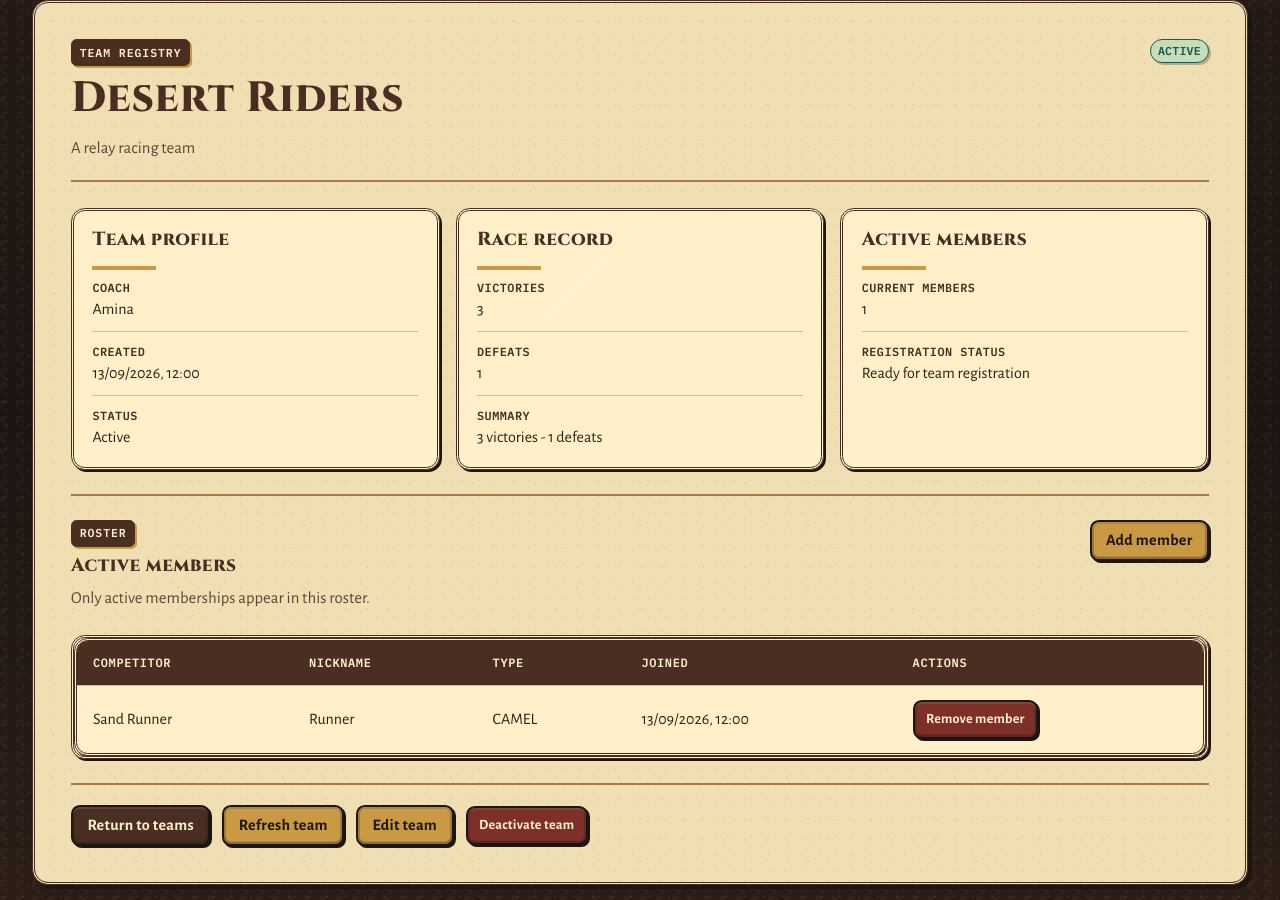
Test case: TeamDetailPage › opens confirmation before removing a member
Click the button "Remove member": point(975, 720) [913,700,1038,739]
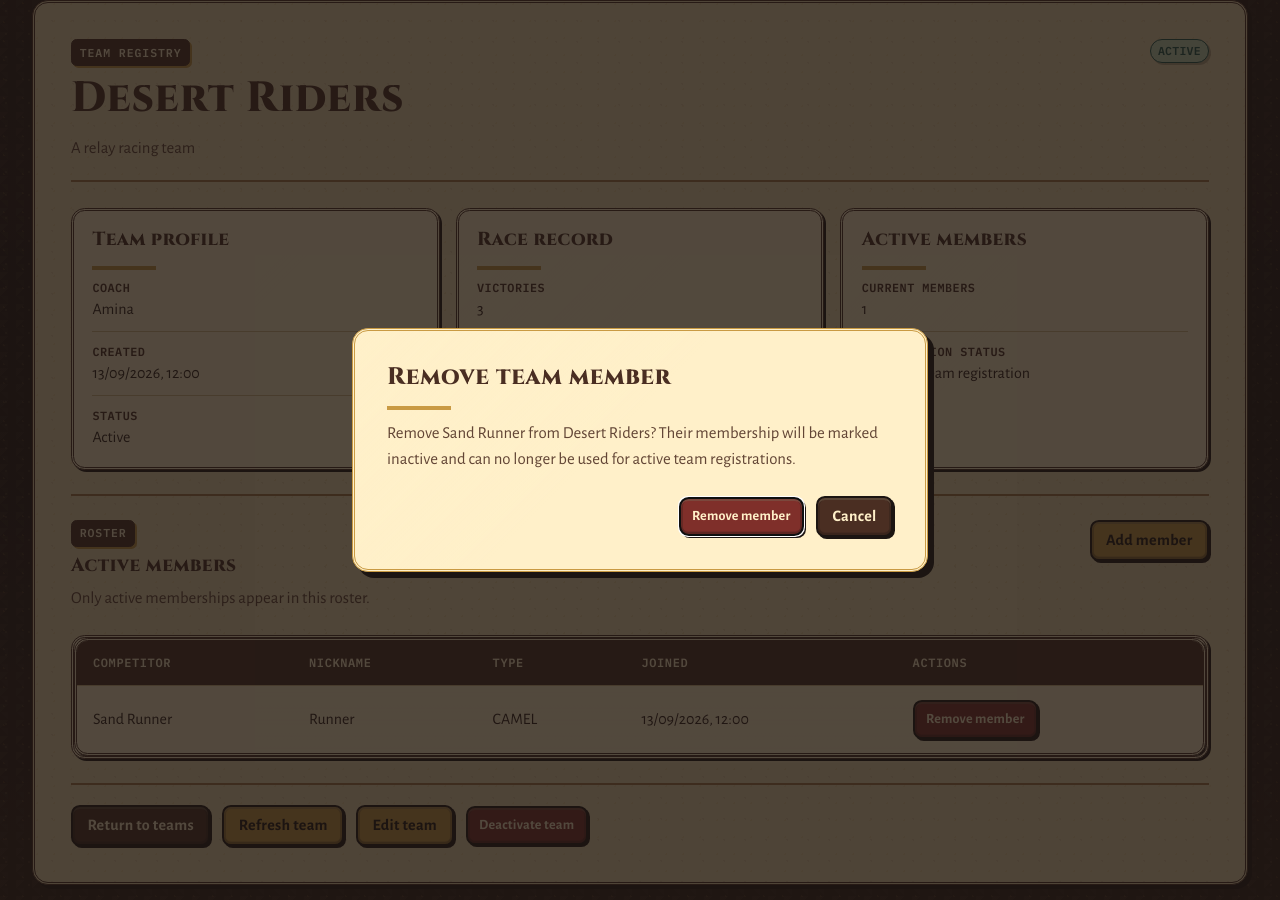
Now the dialog shows "Remove Sand Runner from Desert Riders?", box [387,425,878,467]
